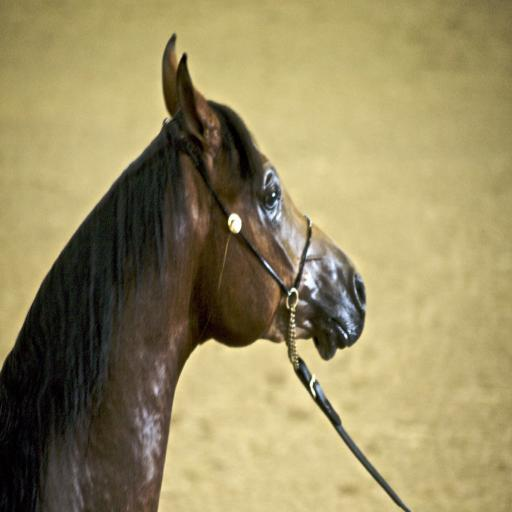horse: (0, 30, 367, 512)
